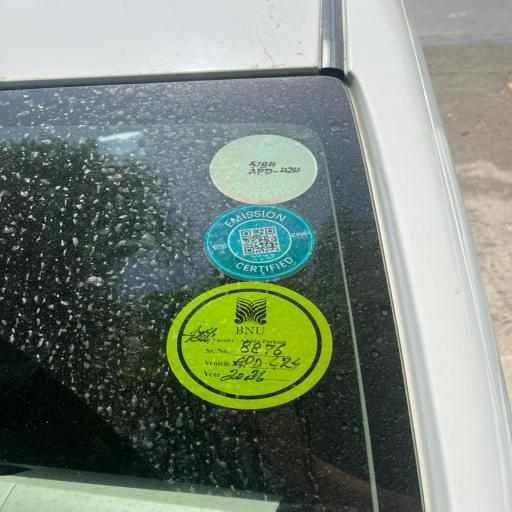bnu_sticker: (170, 279, 340, 409)
